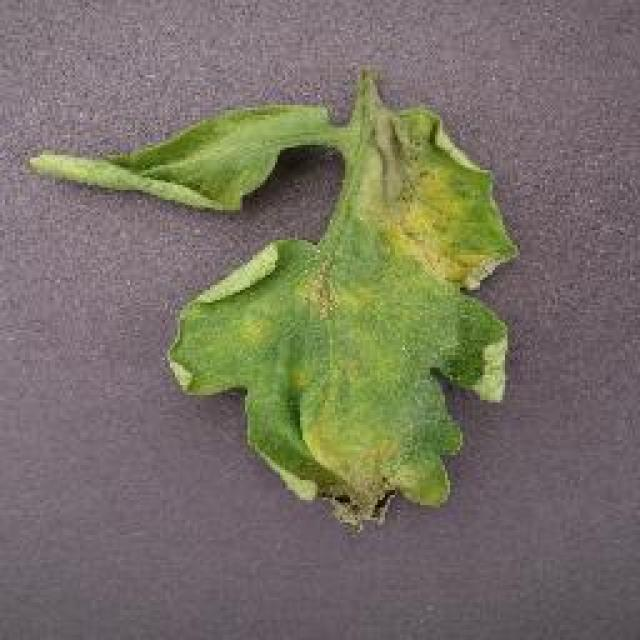leaf blight: (35, 67, 525, 524)
